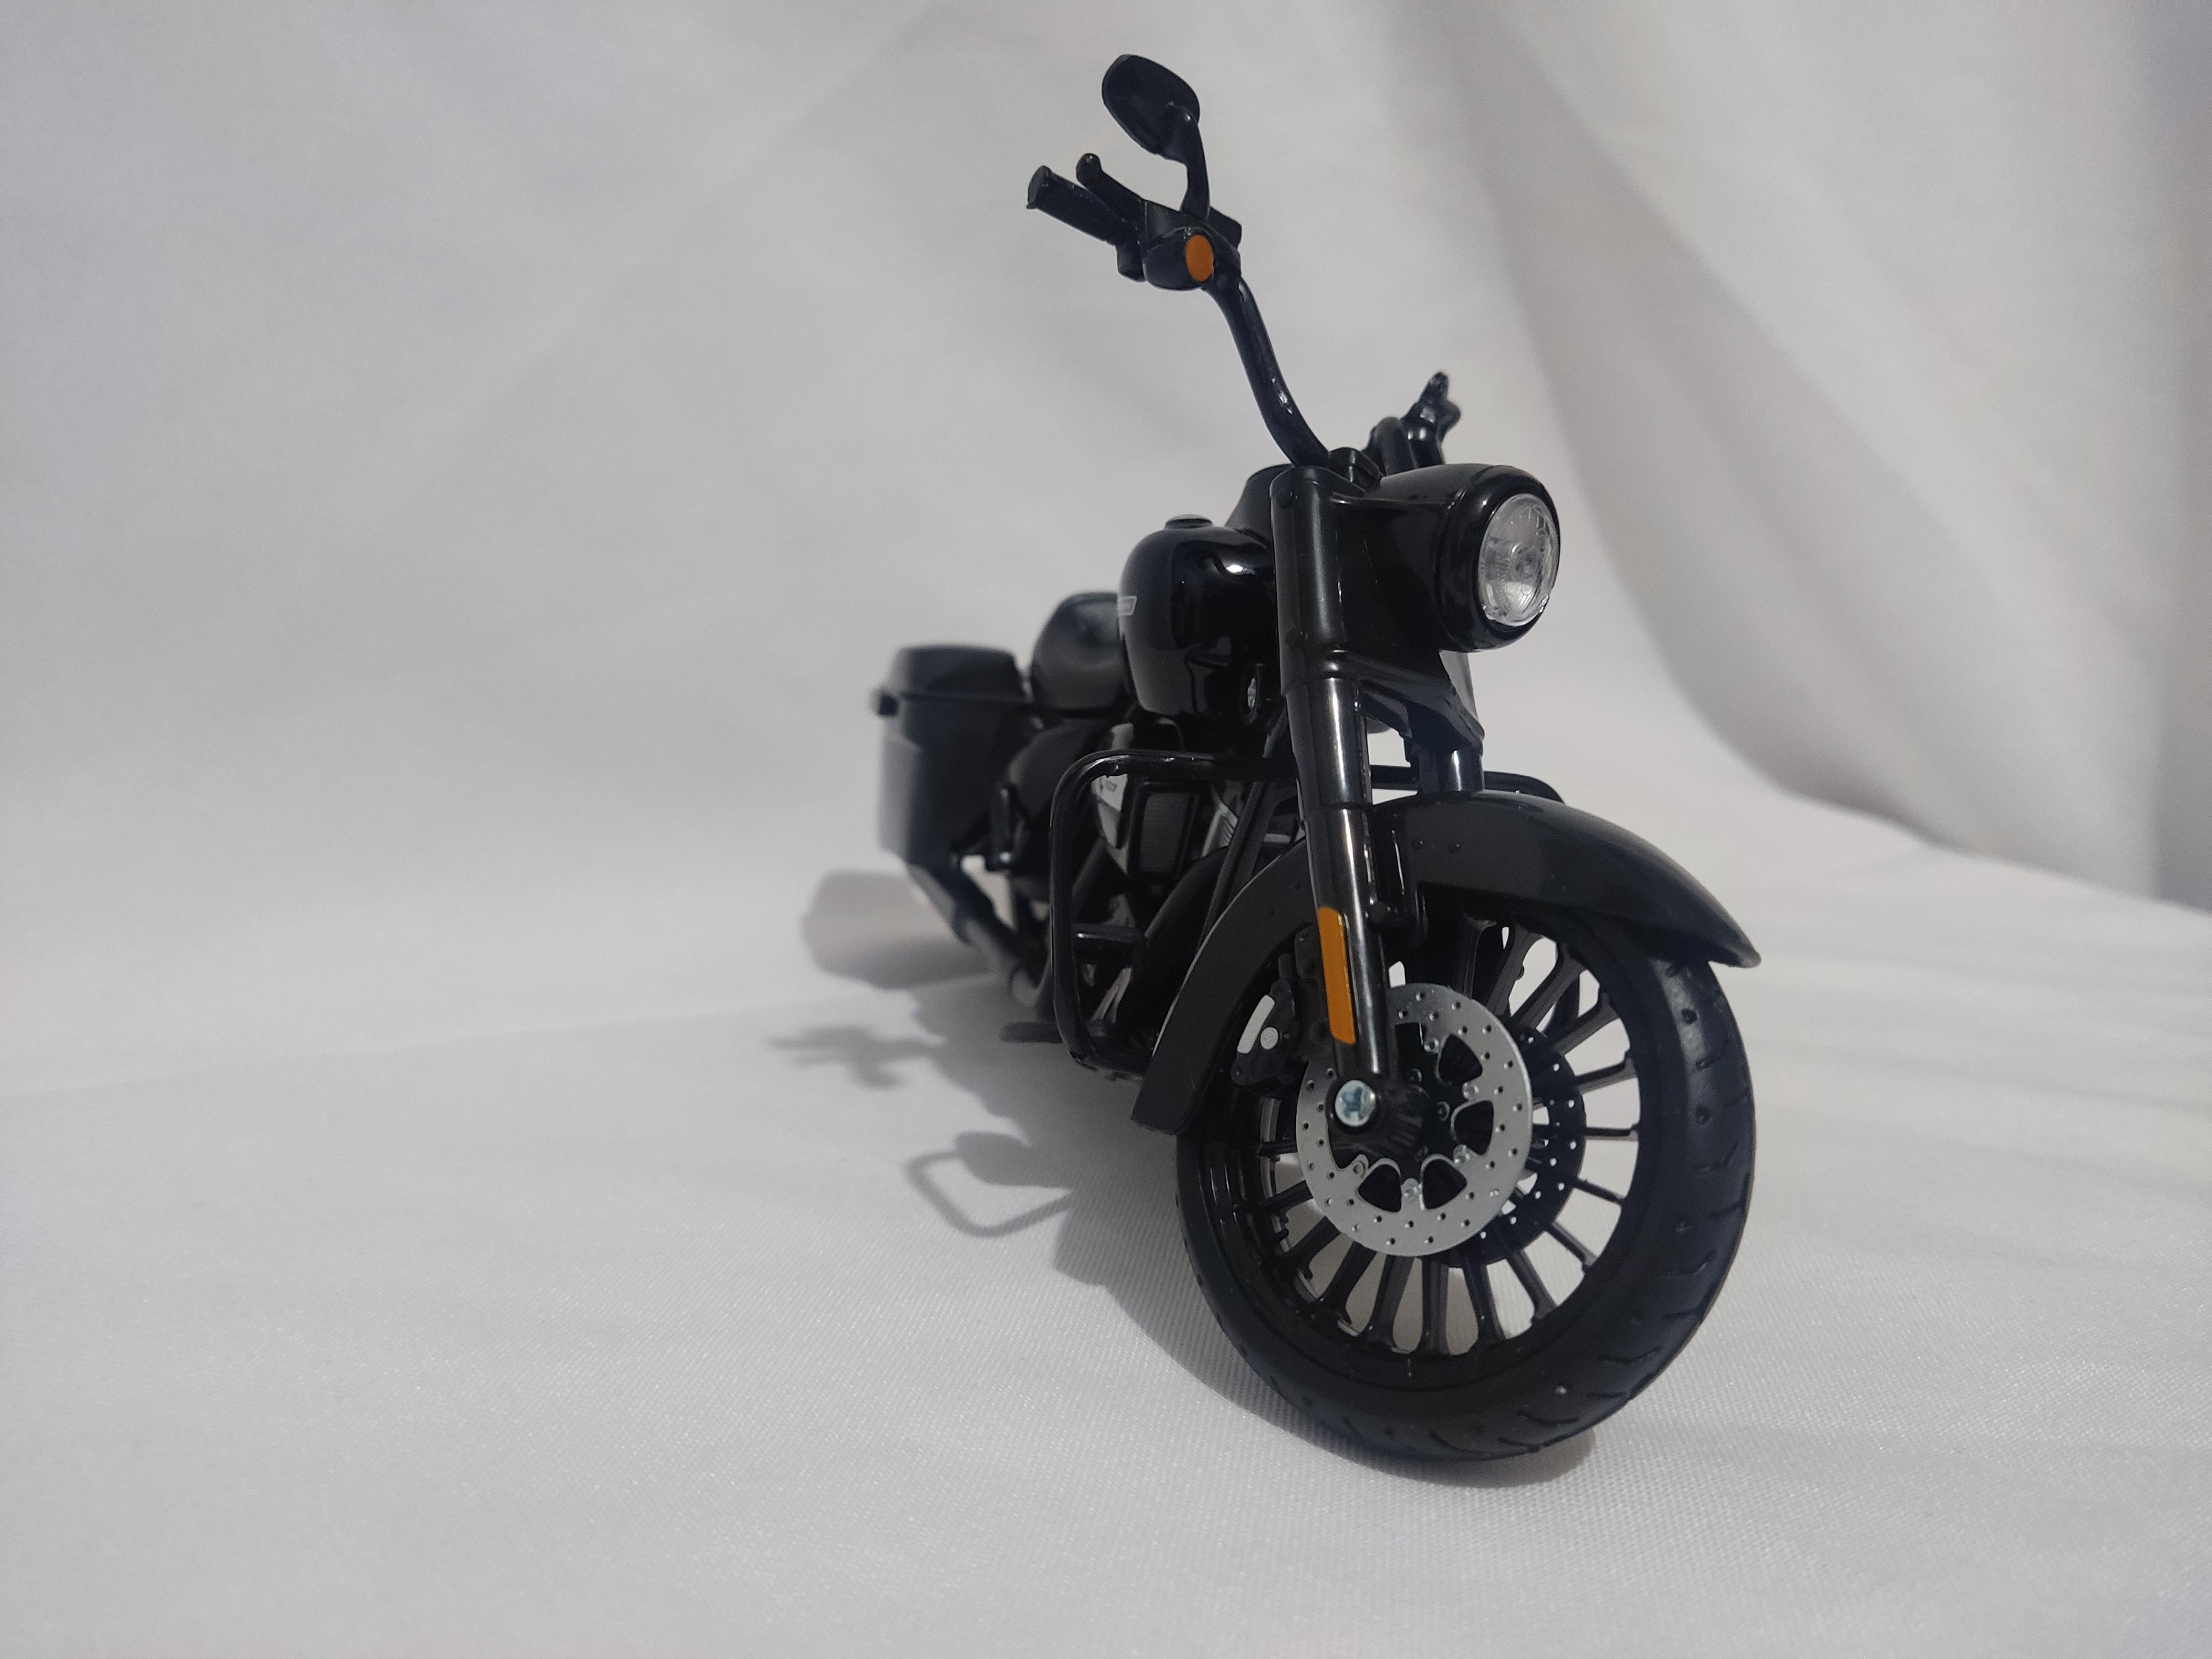Motorcycle: (852, 26, 1799, 1474)
